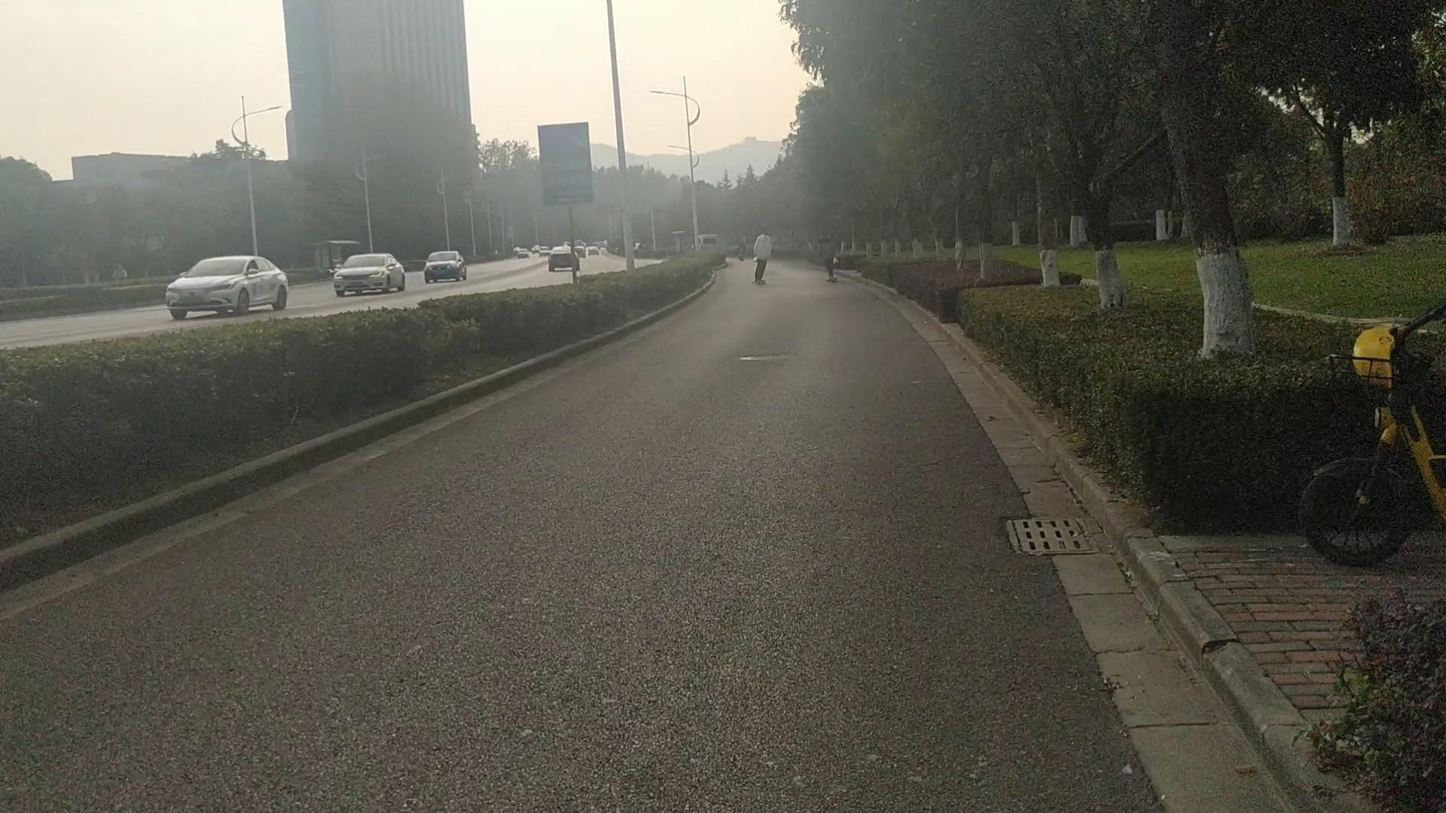car: (166, 254, 290, 319), (332, 251, 406, 296), (424, 249, 467, 284), (548, 243, 580, 272), (578, 242, 603, 256), (513, 246, 532, 258)
